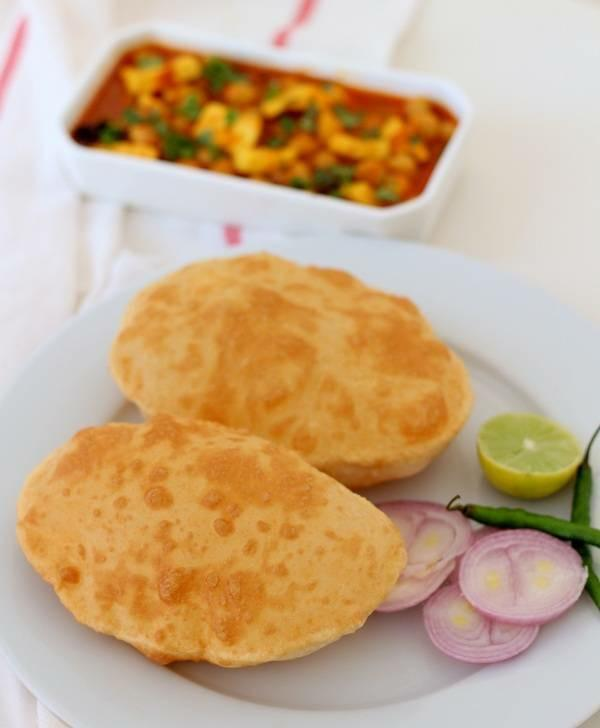Bhatura: (17, 417, 405, 667), (112, 254, 468, 485)
